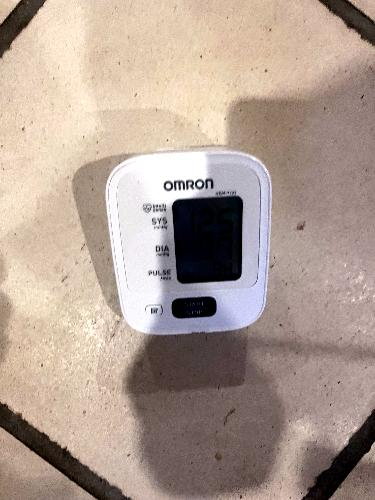bpm: (172, 194, 248, 284)
